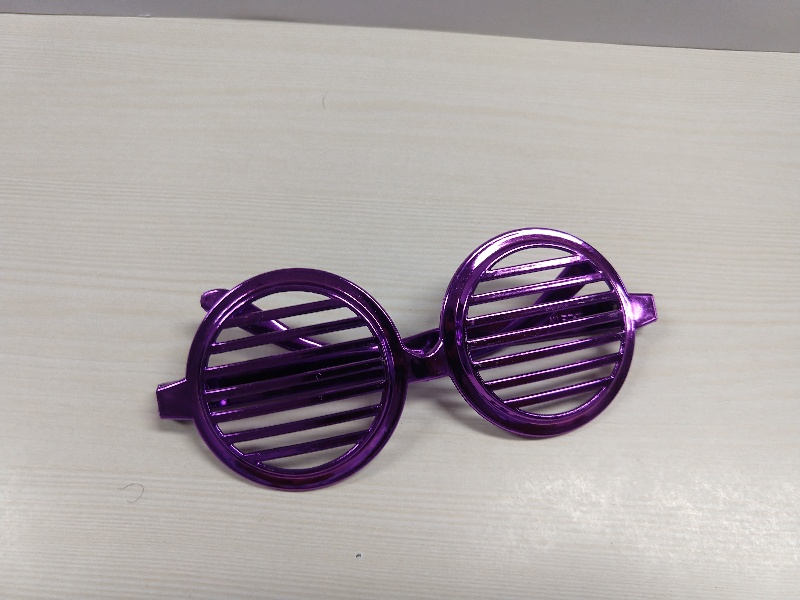shades: (143, 225, 662, 496)
